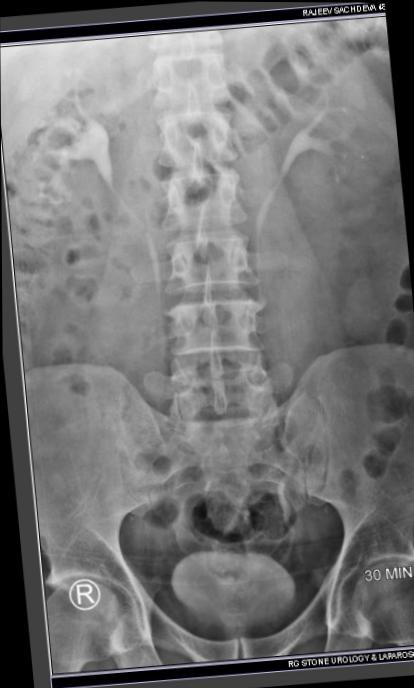bladder: (147, 547, 298, 667)
vertebrae: (139, 95, 239, 170)
